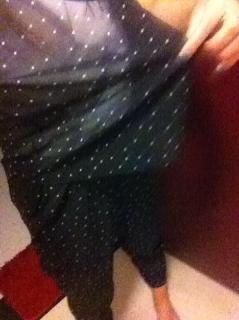sling dress: (0, 0, 195, 205)
trousers: (15, 166, 168, 319)
